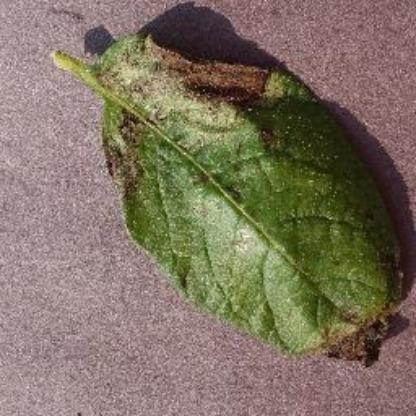Late-Blight: (41, 32, 406, 366)
